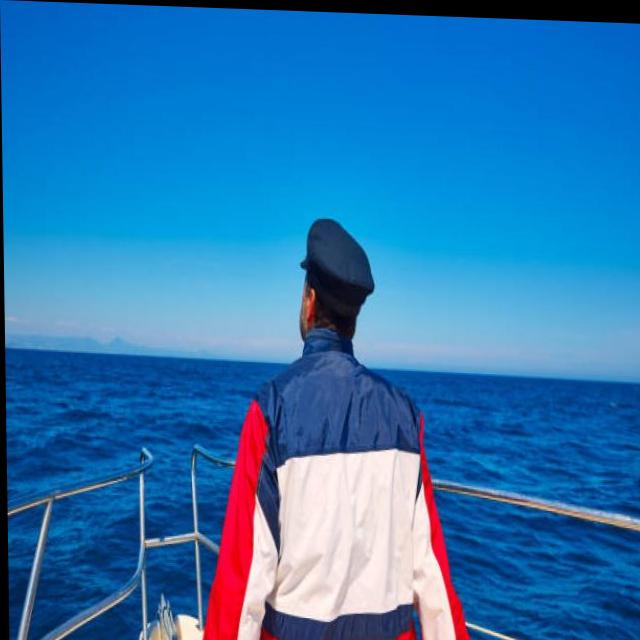no helmet: (296, 212, 375, 346)
